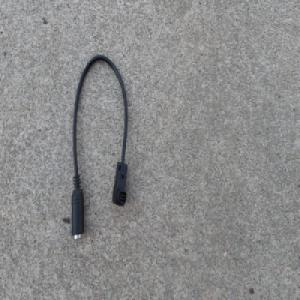Wire: (68, 53, 127, 244)
